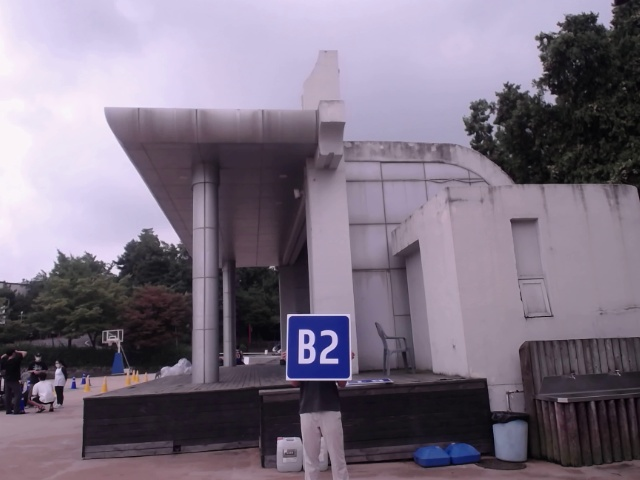delivery_b2: (286, 313, 351, 382)
